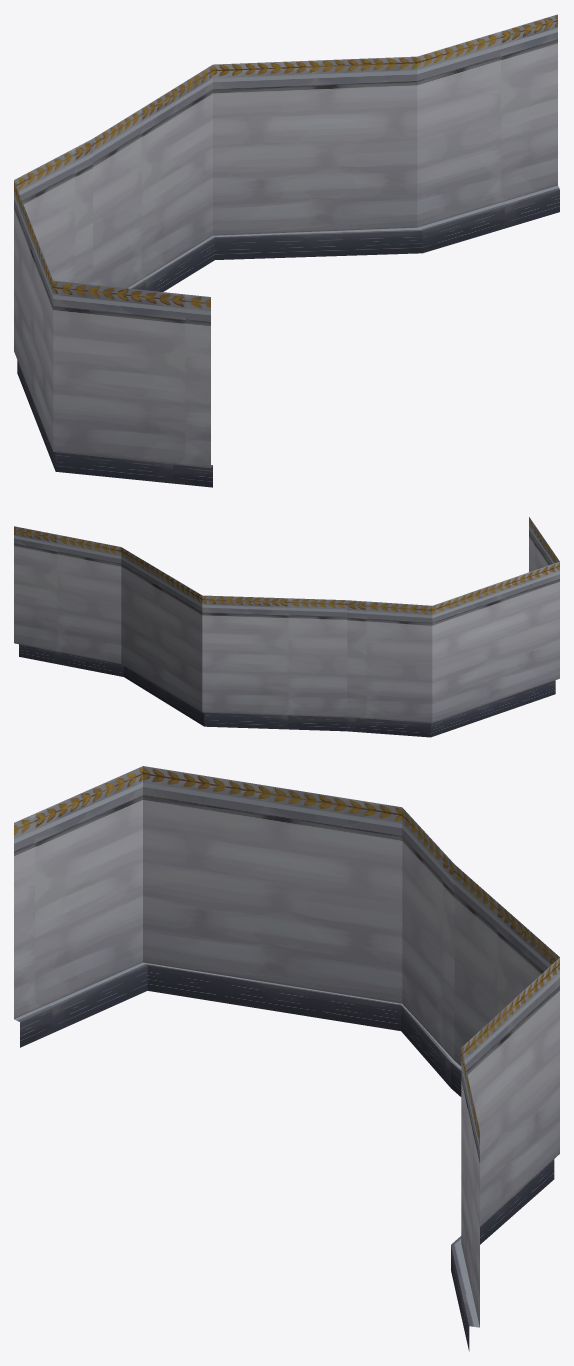
The model's file is Sagitarius_std_walls.fbx.
The picture shows the model from 3 angles, top to bottom: view 1: azimuth 30°, elevation 25°; view 2: azimuth 150°, elevation 25°; view 3: azimuth 270°, elevation 25°; orthographic projection. The views are drawn at different scales.
Visible parts, largest first — view 1: polySurface11; view 2: polySurface11; view 3: polySurface11.
Part boxes in pixels (<box>): polySurface11: <box>14,14,559,487</box>; polySurface11: <box>14,517,559,737</box>; polySurface11: <box>14,766,559,1351</box>.
Size of the model in its own units: 27.77 by 7.89 by 17.55.
